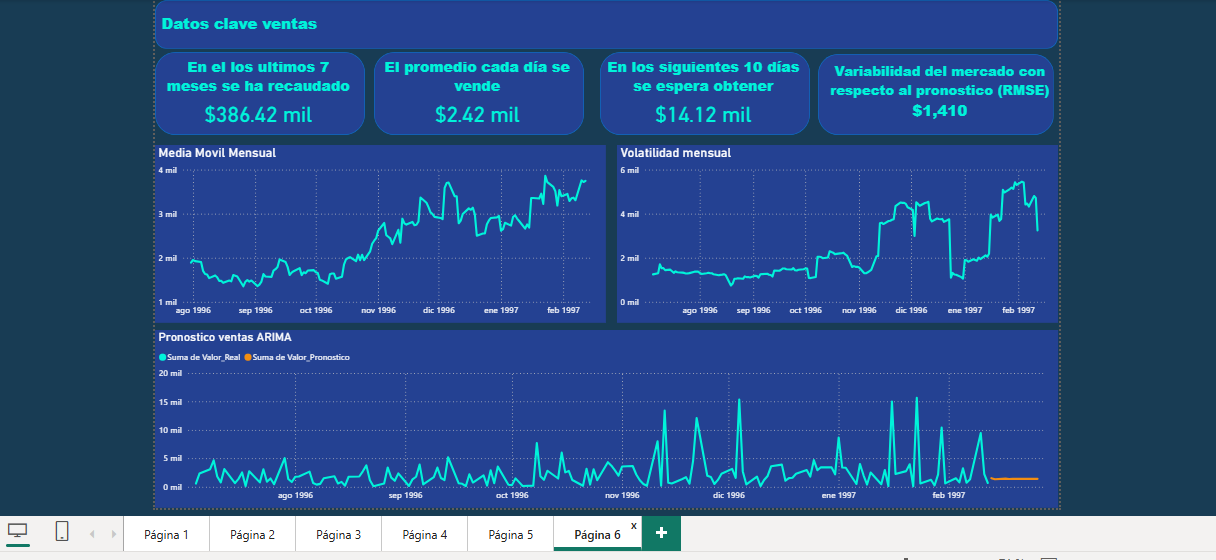

The page's visual inventory and layout, read from the dashboard file:
{"tool":"powerbi","page":{"name":"Página 6","canvas":[1280,720],"ordinal":5},"visuals":[{"type":"group","id":"g1","title":"Grupo 1","box":[0,0,1279.8,69.4],"z":0},{"type":"shape","box":[0,0,1279.8,69.4],"z":0,"group":"g1"},{"type":"shape","box":[0,73.7,297.6,117.6],"z":0,"group":"g2"},{"type":"shape","box":[310.4,73.7,297.6,117.6],"z":0,"group":"g3"},{"type":"shape","box":[630.7,73.7,297.6,117.6],"z":0,"group":"g4"},{"type":"shape","box":[939.7,76.2,334.5,114.8],"z":0,"group":"g5"},{"type":"textbox","box":[4.3,12.8,1269.9,45.4],"z":1000,"group":"g1"},{"type":"card","title":"En el los ultimos 7 meses se ha recaudado","fields":{"Values":["Sum(Ventas_dia.Monto)"]},"box":[2.7,79.7,287,106.3],"z":1000,"group":"g2"},{"type":"card","title":"El promedio cada día se vende","fields":{"Values":["Avg(Ventas_dia.Monto)"]},"box":[313.1,79.7,287,106.3],"z":1000,"group":"g3"},{"type":"card","title":"En los siguientes 10 días se espera obtener","fields":{"Values":["Sum(Pronostico_10_días_ventas.Column2)"]},"box":[633.4,79.7,287,106.3],"z":1000,"group":"g4"},{"type":"textbox","box":[951.3,81.3,322.6,96.4],"z":1000,"group":"g5"},{"type":"lineChart","title":"Pronostico ventas ARIMA","fields":{"Category":["Tabla_Visualizacion.Fecha"],"Y":["Sum(Tabla_Visualizacion.Valor_Real)","Sum(Tabla_Visualizacion.Valor_Pronostico)"]},"box":[0,467.7,1279.8,252.3],"z":1000},{"type":"lineChart","title":"Media Movil Mensual","fields":{"Category":["Ventas_dia.Fecha"],"Y":["Ventas_dia.Media Movil Mensual (20d)"]},"box":[0,205.5,639.2,252.3],"z":2000},{"type":"group","id":"g2","title":"Grupo 2","box":[0,73.7,297.6,117.6],"z":3000},{"type":"group","id":"g3","title":"Grupo 2","box":[310.4,73.7,297.6,117.6],"z":4000},{"type":"group","id":"g4","title":"Grupo 2","box":[630.7,73.7,297.6,117.6],"z":5000},{"type":"group","id":"g5","title":"Grupo 2","box":[939.7,76.2,334.5,114.8],"z":6000},{"type":"lineChart","title":"Volatilidad mensual","fields":{"Y":["Ventas_dia.Desv_Est_Movil_20d"],"Category":["Ventas_dia.Fecha"]},"box":[654.8,205.5,625,252.3],"z":6001}]}

Visuals, with their boxes on the page's 1280x720 design canvas (x1, y1, x2, y2). These are canvas units, not pixel positions in the 1216x560 screenshot, which may show the page scaled, cropped or inside an application window:
"Grupo 1" group: {"left": 0, "top": 0, "right": 1280, "bottom": 69}
shape: {"left": 0, "top": 0, "right": 1280, "bottom": 69}
shape: {"left": 0, "top": 74, "right": 298, "bottom": 191}
shape: {"left": 310, "top": 74, "right": 608, "bottom": 191}
shape: {"left": 631, "top": 74, "right": 928, "bottom": 191}
shape: {"left": 940, "top": 76, "right": 1274, "bottom": 191}
textbox: {"left": 4, "top": 13, "right": 1274, "bottom": 58}
"En el los ultimos 7 meses se ha recaudado" card: {"left": 3, "top": 80, "right": 290, "bottom": 186}
"El promedio cada día se vende" card: {"left": 313, "top": 80, "right": 600, "bottom": 186}
"En los siguientes 10 días se espera obtener" card: {"left": 633, "top": 80, "right": 920, "bottom": 186}
textbox: {"left": 951, "top": 81, "right": 1274, "bottom": 178}
"Pronostico ventas ARIMA" lineChart: {"left": 0, "top": 468, "right": 1280, "bottom": 720}
"Media Movil Mensual" lineChart: {"left": 0, "top": 206, "right": 639, "bottom": 458}
"Grupo 2" group: {"left": 0, "top": 74, "right": 298, "bottom": 191}
"Grupo 2" group: {"left": 310, "top": 74, "right": 608, "bottom": 191}
"Grupo 2" group: {"left": 631, "top": 74, "right": 928, "bottom": 191}
"Grupo 2" group: {"left": 940, "top": 76, "right": 1274, "bottom": 191}
"Volatilidad mensual" lineChart: {"left": 655, "top": 206, "right": 1280, "bottom": 458}
